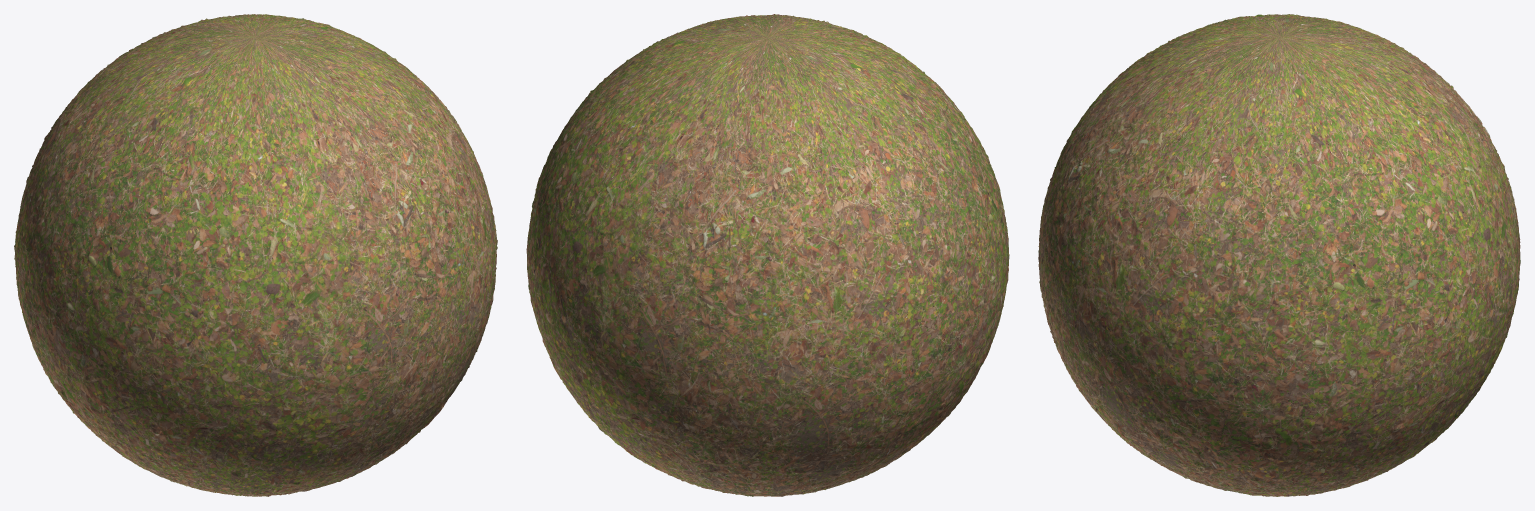
The model's file is leafy_grass_2k.gltf.
3 renders of one model, left to right at view 1: azimuth 30°, elevation 25°; view 2: azimuth 150°, elevation 25°; view 3: azimuth 270°, elevation 25°, orthographic.
Visible parts, largest first — view 1: sphere_gltf; view 2: sphere_gltf; view 3: sphere_gltf.
Boxes of the visible parts, bbox=[...] form: sphere_gltf: bbox=[14, 14, 497, 496]; sphere_gltf: bbox=[526, 14, 1009, 496]; sphere_gltf: bbox=[1038, 14, 1520, 496].
Size of the model in its own units: 2 by 2 by 2.
Materials: 1 (1 with a texture image).
